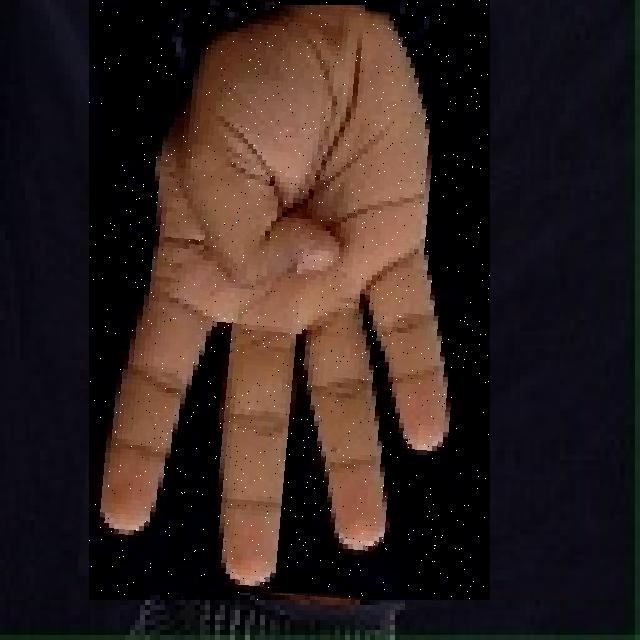Thanks: (89, 0, 490, 600)
